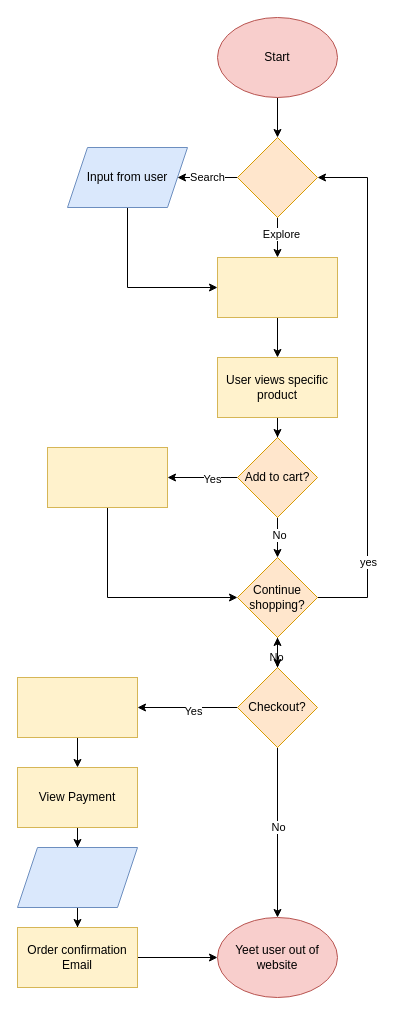
Image size: 394x1015. Some labels were removed from this diagram. Here are the shapes that lost their labels. From the top down, the box of each, then its label:
(236, 136, 318, 218): Search/ Explore
(216, 256, 338, 318): User looks at products
(46, 446, 168, 508): Add confirmation
(16, 676, 138, 738): View Cart Screen
(16, 846, 138, 908): User input payment info
